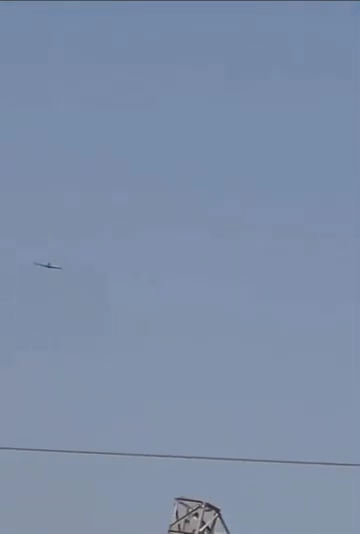shahed: (31, 259, 65, 273)
